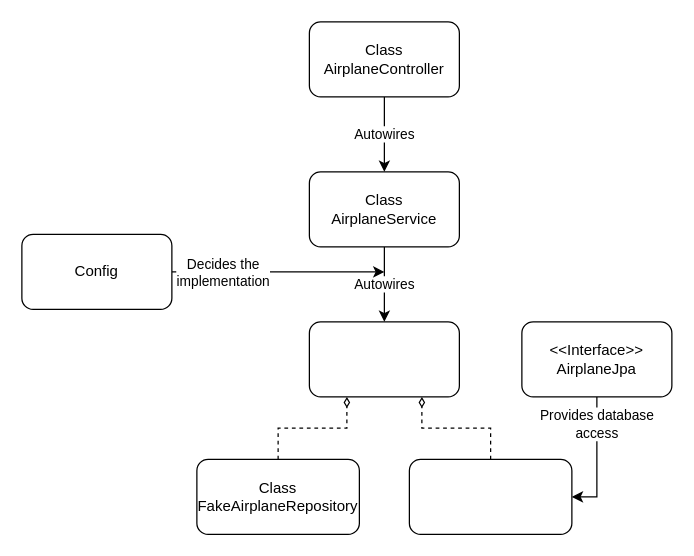
The diagram is 694 pixels wide and 556 high, and some of its shapes have lost their labels. Each missing label, with the centre of its shape:
"<<Interface>> AirplaneRepository" belongs at point 383,359.
"Class AirplaneRepositoryJpa" belongs at point 490,496.
